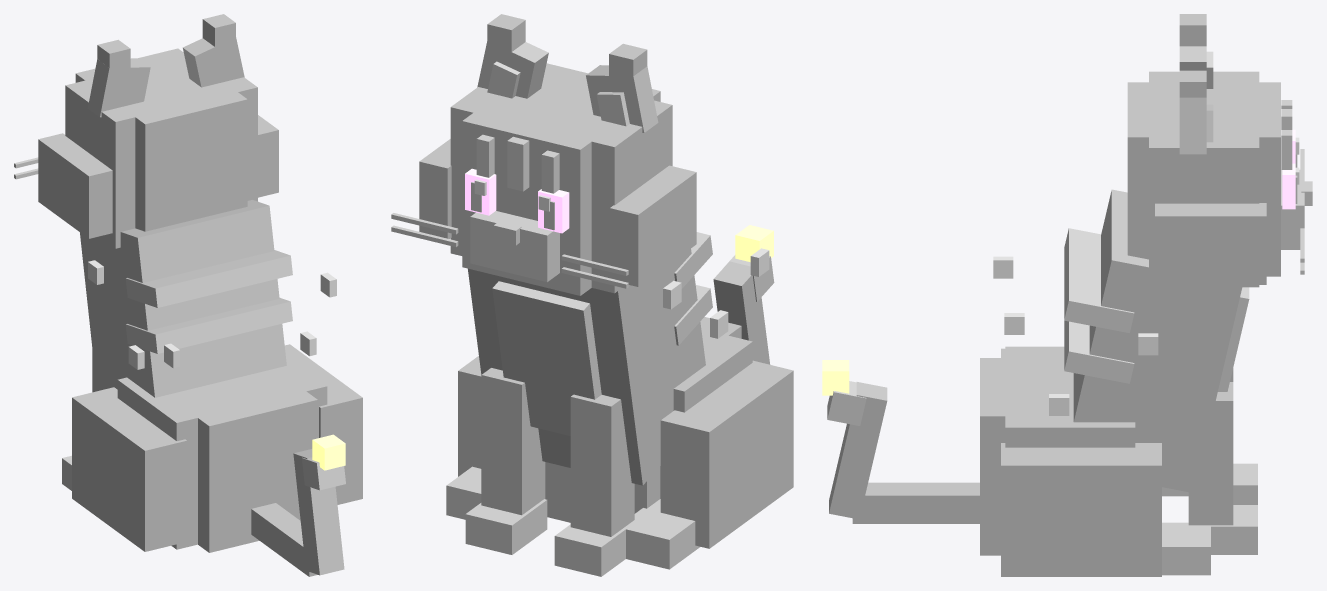
The model's file is GalaxyCat.fbx.
The picture shows the model from 3 angles, left to right: view 1: azimuth 30°, elevation 25°; view 2: azimuth 150°, elevation 25°; view 3: azimuth 270°, elevation 25°; orthographic projection. The views are drawn at different scales.
Parts seen in each view (by area): view 1: Galaxy Cat_body_8, Galaxy Cat_legBL_5, Galaxy Cat_head_19, Galaxy Cat_body_3, Galaxy Cat_head_18, Galaxy Cat_head_21, Galaxy Cat_body_2, Galaxy Cat_body_1, Galaxy Cat_head_17, Galaxy Cat_body_11, Galaxy Cat_legBR_4, Galaxy Cat_body_10 (+11 smaller); view 2: Galaxy Cat_legBL_5, Galaxy Cat_body_8, Galaxy Cat_head_18, Galaxy Cat_head_19, Galaxy Cat_body_9, Galaxy Cat_legFL_13, Galaxy Cat_head_21, Galaxy Cat_legFR_12, Galaxy Cat_head_22, Galaxy Cat_head_17, Galaxy Cat_legBL_7, Galaxy Cat_legFR_14 (+24 smaller); view 3: Galaxy Cat_body_8, Galaxy Cat_legBR_4, Galaxy Cat_head_18, Galaxy Cat_head_20, Galaxy Cat_body_2, Galaxy Cat_head_19, Galaxy Cat_tail_43, Galaxy Cat_legFR_12, Galaxy Cat_body_11, Galaxy Cat_tail_44, Galaxy Cat_body_3, Galaxy Cat_legBR_6 (+14 smaller).
Part boxes in pixels (x1,y1,x2,y2): Galaxy Cat_body_8: (80,200,286,397); Galaxy Cat_legBL_5: (72,387,187,551); Galaxy Cat_head_19: (75,48,247,187); Galaxy Cat_body_3: (167,380,317,489); Galaxy Cat_head_18: (65,56,257,185); Galaxy Cat_head_21: (38,133,112,238); Galaxy Cat_body_2: (117,356,327,483); Galaxy Cat_body_1: (198,469,300,552); Galaxy Cat_head_17: (135,163,247,231); Galaxy Cat_body_11: (125,250,292,307); Galaxy Cat_legBR_4: (284,344,362,504); Galaxy Cat_body_10: (125,298,292,353); Galaxy Cat_legBL_5: (660,360,793,548); Galaxy Cat_body_8: (468,249,705,485); Galaxy Cat_head_18: (450,74,672,218); Galaxy Cat_head_19: (462,63,660,222); Galaxy Cat_body_9: (492,281,601,435); Galaxy Cat_legFL_13: (570,394,634,536); Galaxy Cat_head_21: (610,165,696,286); Galaxy Cat_legFR_12: (481,368,545,515); Galaxy Cat_head_22: (470,211,559,282); Galaxy Cat_head_17: (462,194,591,295); Galaxy Cat_legBL_7: (626,499,700,569); Galaxy Cat_legFR_14: (465,499,547,554); Galaxy Cat_body_8: (1073,189,1242,493); Galaxy Cat_legBR_4: (1001,443,1161,576); Galaxy Cat_head_18: (1149,71,1259,217); Galaxy Cat_head_20: (1155,203,1266,284); Galaxy Cat_body_2: (1005,346,1135,447); Galaxy Cat_head_19: (1127,82,1280,206); Galaxy Cat_tail_43: (852,482,979,523); Galaxy Cat_legFR_12: (1188,382,1233,525); Galaxy Cat_body_11: (1064,228,1134,332); Galaxy Cat_tail_44: (829,382,887,518); Galaxy Cat_body_3: (980,358,1073,485); Galaxy Cat_legBR_6: (1162,522,1210,575).
Bounding box in the file's own units: 124 × 236 × 220.
